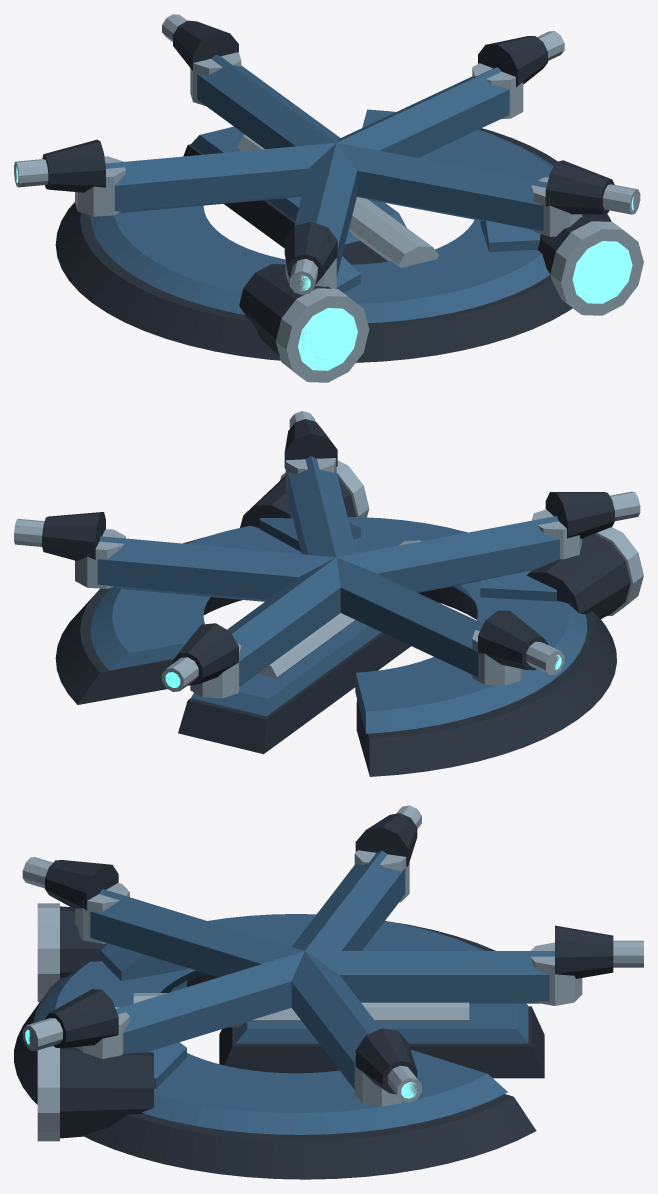
The model's file is c4_torusEnemy.glb.
3 renders of one model, top to bottom at view 1: azimuth 30°, elevation 25°; view 2: azimuth 150°, elevation 25°; view 3: azimuth 270°, elevation 25°, orthographic. The views are drawn at different scales.
Visible parts, largest first — view 1: ring_rotor / Armor, torusEnemy / Armor, torusEnemy / Chassis, ring_rotor / Chassis, torusEnemy / Titanium, ring_rotor / Titanium, torusEnemy / Energy; view 2: ring_rotor / Armor, torusEnemy / Chassis, torusEnemy / Armor, ring_rotor / Chassis, ring_rotor / Titanium, torusEnemy / Titanium; view 3: ring_rotor / Armor, torusEnemy / Chassis, torusEnemy / Armor, ring_rotor / Chassis, ring_rotor / Titanium, torusEnemy / Titanium.
Boxes of the visible parts, left/top/right/bottom form: ring_rotor / Armor: left=105, top=54, right=547, bottom=277; torusEnemy / Armor: left=90, top=109, right=553, bottom=322; torusEnemy / Chassis: left=55, top=128, right=611, bottom=362; ring_rotor / Chassis: left=42, top=20, right=614, bottom=284; torusEnemy / Titanium: left=237, top=135, right=643, bottom=382; ring_rotor / Titanium: left=14, top=14, right=640, bottom=294; torusEnemy / Energy: left=298, top=241, right=632, bottom=370; ring_rotor / Armor: left=97, top=456, right=559, bottom=686; torusEnemy / Chassis: left=55, top=476, right=630, bottom=776; torusEnemy / Armor: left=90, top=516, right=587, bottom=733; ring_rotor / Chassis: left=42, top=419, right=614, bottom=685; ring_rotor / Titanium: left=14, top=411, right=640, bottom=698; torusEnemy / Titanium: left=258, top=460, right=643, bottom=678; ring_rotor / Armor: left=90, top=850, right=554, bottom=1089; torusEnemy / Chassis: left=14, top=906, right=544, bottom=1179; torusEnemy / Armor: left=38, top=914, right=528, bottom=1134; ring_rotor / Chassis: left=45, top=813, right=613, bottom=1094; ring_rotor / Titanium: left=22, top=805, right=643, bottom=1106; torusEnemy / Titanium: left=37, top=903, right=469, bottom=1141.
Size of the model in its own units: 1.91 by 0.45 by 1.84.
